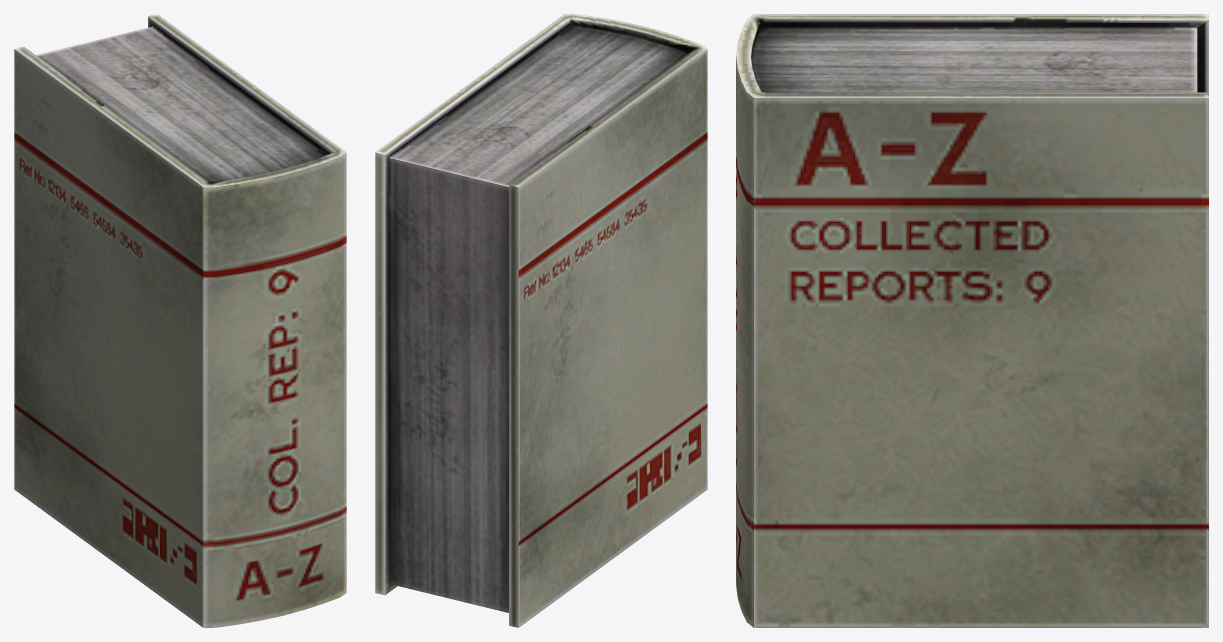
File: book_closed03.dae
The picture shows the model from 3 angles, left to right: view 1: azimuth 30°, elevation 25°; view 2: azimuth 150°, elevation 25°; view 3: azimuth 270°, elevation 25°; orthographic projection. The views are drawn at different scales.
Parts seen in each view (by area): view 1: book_closed03_LP; view 2: book_closed03_LP; view 3: book_closed03_LP.
Boxes of the visible parts, <box> form: book_closed03_LP: <box>14,14,346,627</box>; book_closed03_LP: <box>375,14,707,627</box>; book_closed03_LP: <box>736,14,1208,627</box>.
Bounding box in the file's own units: 0.1195 × 0.3511 × 0.2839.
